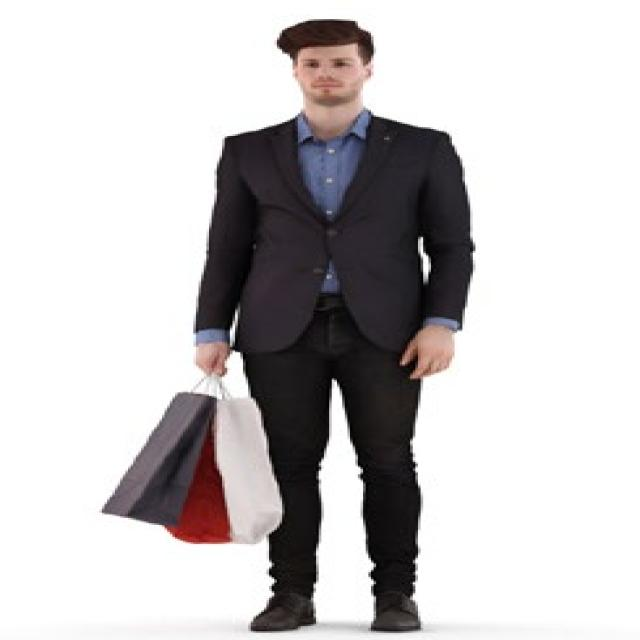standing: (188, 17, 474, 635)
